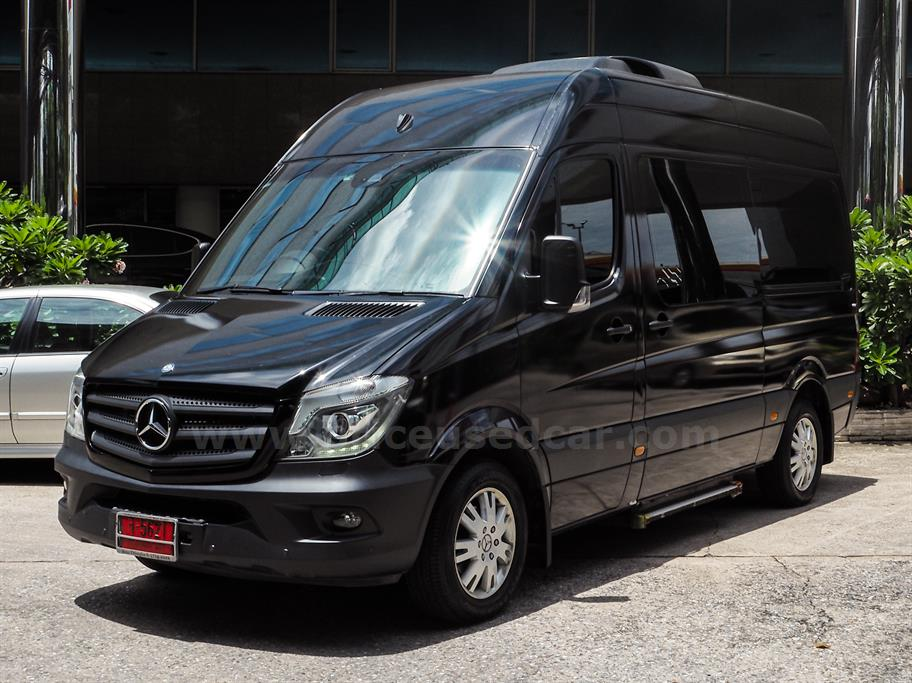van: (55, 56, 863, 622)
